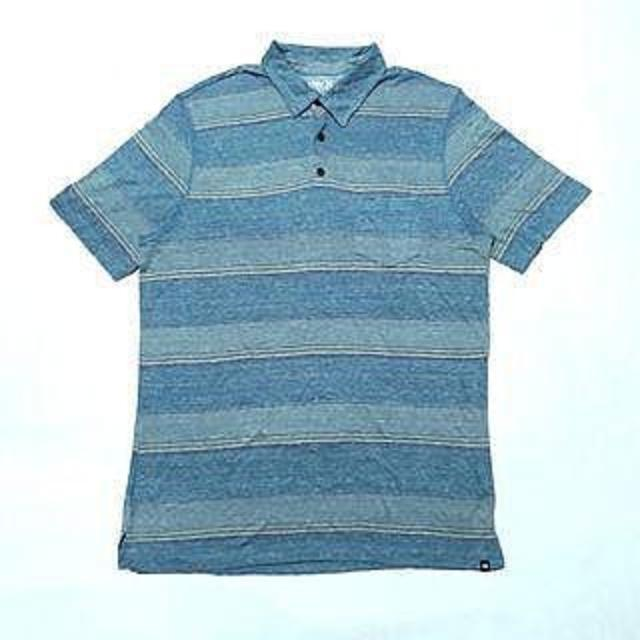T_SHIRT: (39, 29, 606, 582)
